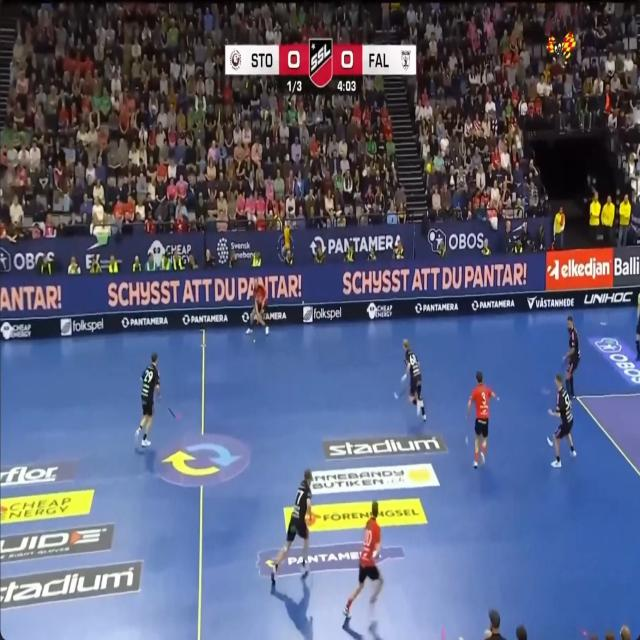player: (271, 469, 312, 583), (343, 502, 383, 618), (467, 371, 496, 466), (547, 374, 576, 466), (135, 353, 159, 446), (401, 339, 425, 420), (564, 315, 580, 397), (246, 281, 268, 333), (635, 292, 640, 360)
